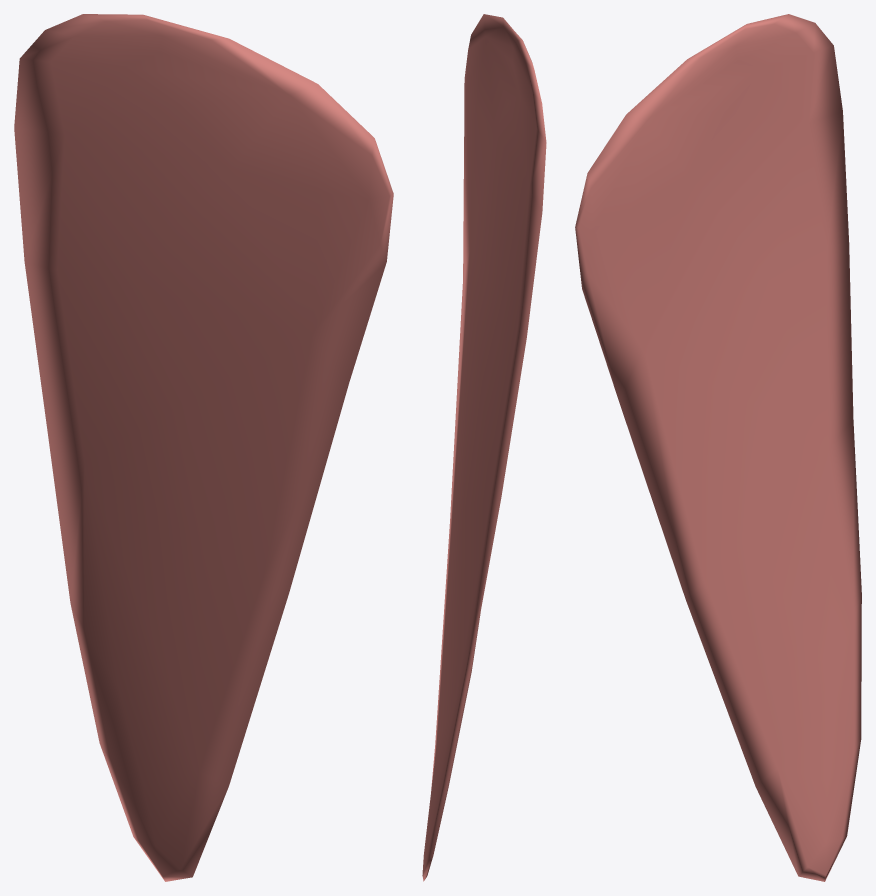
3 renders of one model, left to right at view 1: azimuth 30°, elevation 25°; view 2: azimuth 150°, elevation 25°; view 3: azimuth 270°, elevation 25°, orthographic. The views are drawn at different scales.
Parts seen in each view (by area): view 1: ZA_1aef844cc16c38c6; view 2: ZA_1aef844cc16c38c6; view 3: ZA_1aef844cc16c38c6.
Part boxes in pixels (bbox=[...]): ZA_1aef844cc16c38c6: bbox=[14, 14, 393, 881]; ZA_1aef844cc16c38c6: bbox=[422, 14, 546, 881]; ZA_1aef844cc16c38c6: bbox=[575, 14, 861, 881].
Size of the model in its own units: 0.0123 by 0.0462 by 0.0145.
